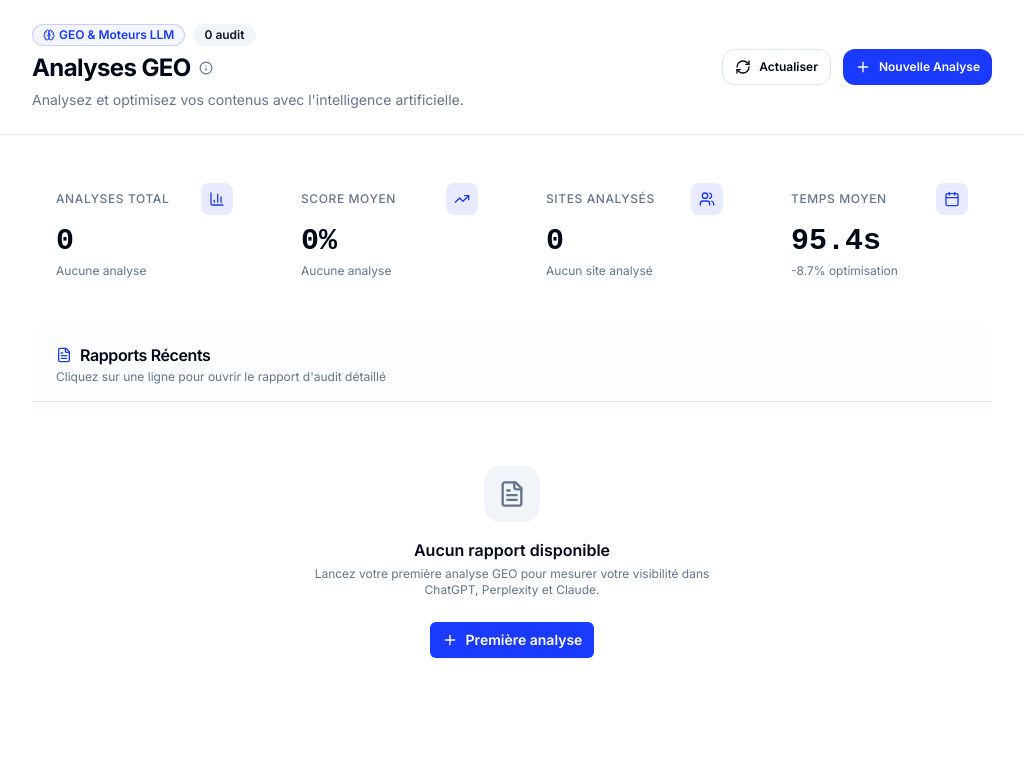
Test: Analysis Flow Integration › URL Validation Flow › should add https:// prefix automatically on blur
// Open new analysis dialog
Click the button "Nouvelle Analyse".
click(918, 67)  # box x1=843 y1=49 x2=992 y2=85
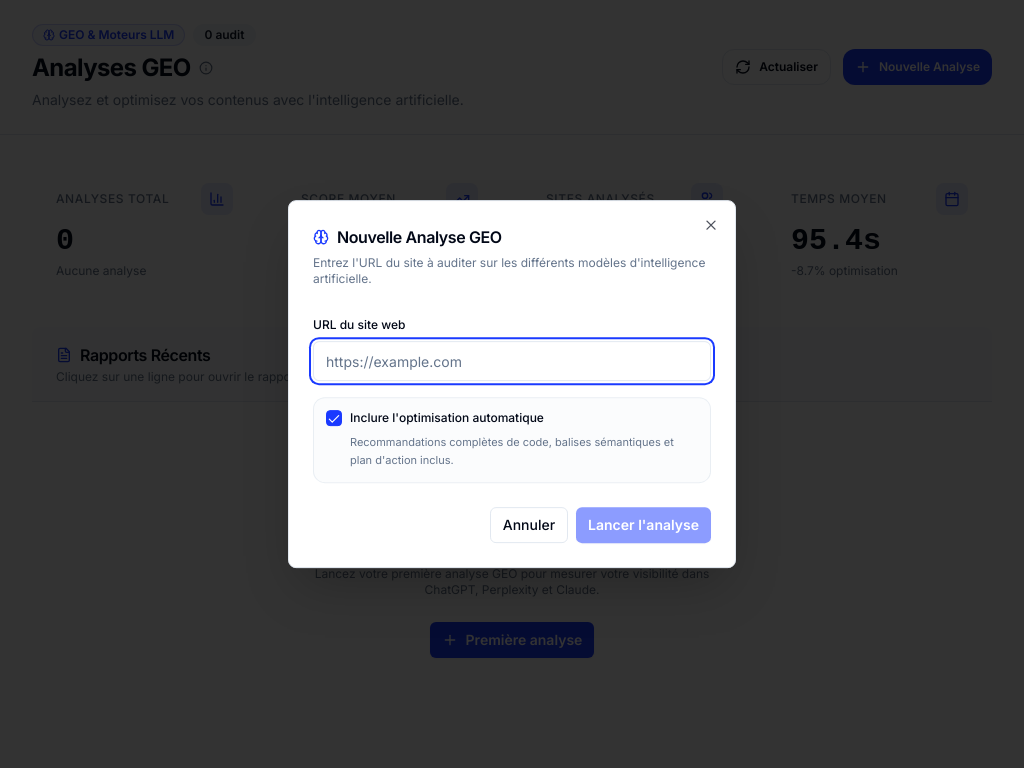
// Fill URL without protocol
Type "example.com" into the field with placeholder "https://example.com".
click(512, 361); type("example.com")  # box x1=313 y1=341 x2=711 y2=381
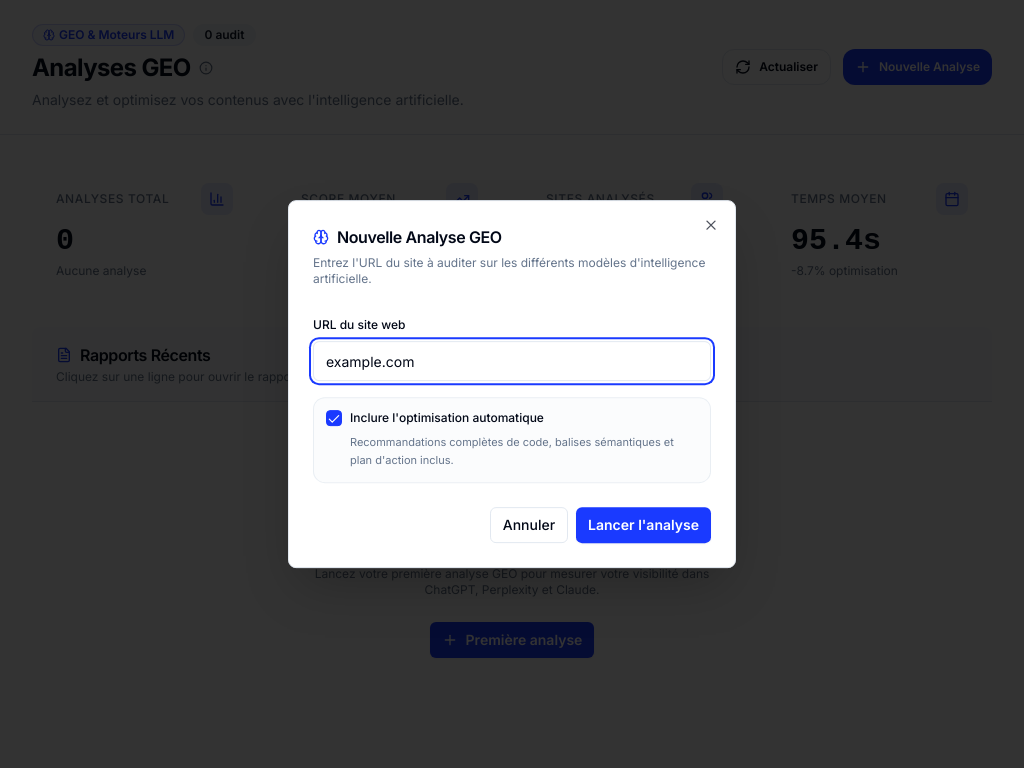
Leave the field with placeholder "https://example.com", box x1=313 y1=341 x2=711 y2=381
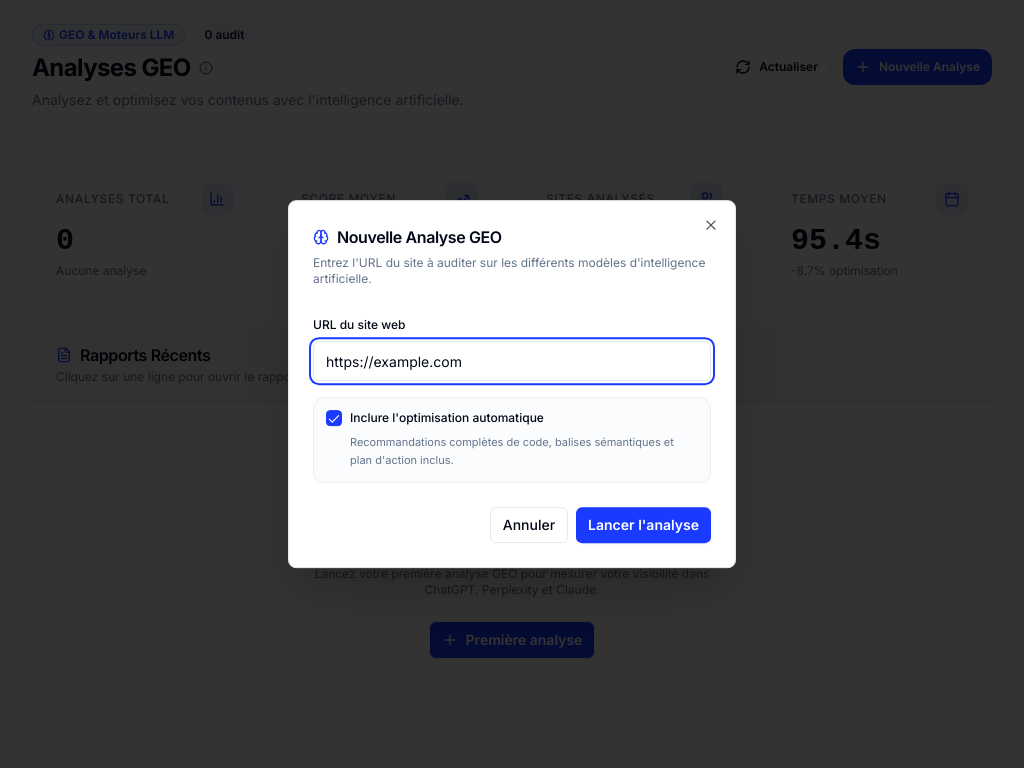
Expected: the field with placeholder "https://example.com" holds "https://example.com", x1=313 y1=341 x2=711 y2=381
